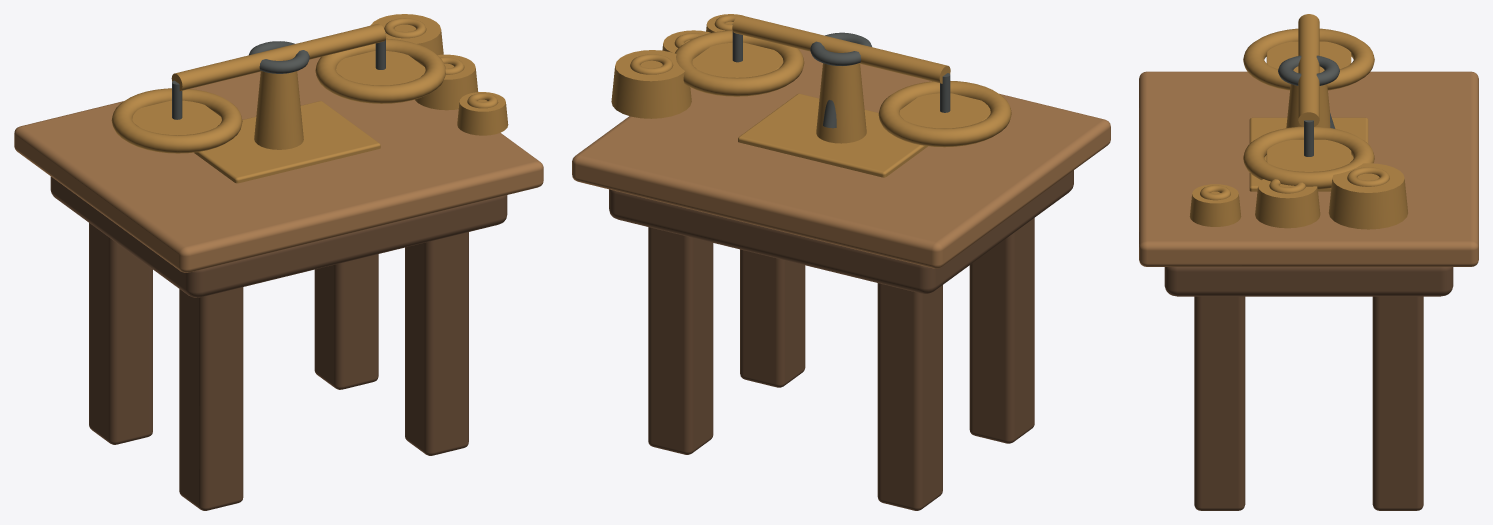
The model's file is detail_scales_table.glb.
3 views of the same model, side by side, from view 1: azimuth 30°, elevation 25°; view 2: azimuth 150°, elevation 25°; view 3: azimuth 270°, elevation 25° (orthographic). The views are drawn at different scales.
Parts seen in each view (by area): view 1: wood, stone, metal; view 2: wood, stone, metal; view 3: wood, stone.
Boxes of the visible parts, x1,y1,x2,y2 form: wood: [14, 14, 543, 510]; stone: [249, 41, 309, 73]; metal: [172, 32, 385, 119]; wood: [572, 14, 1110, 510]; stone: [810, 32, 871, 128]; metal: [732, 24, 950, 112]; wood: [1139, 14, 1478, 510]; stone: [1278, 55, 1339, 128].
Size of the model in its own units: 1 by 1 by 0.8.
